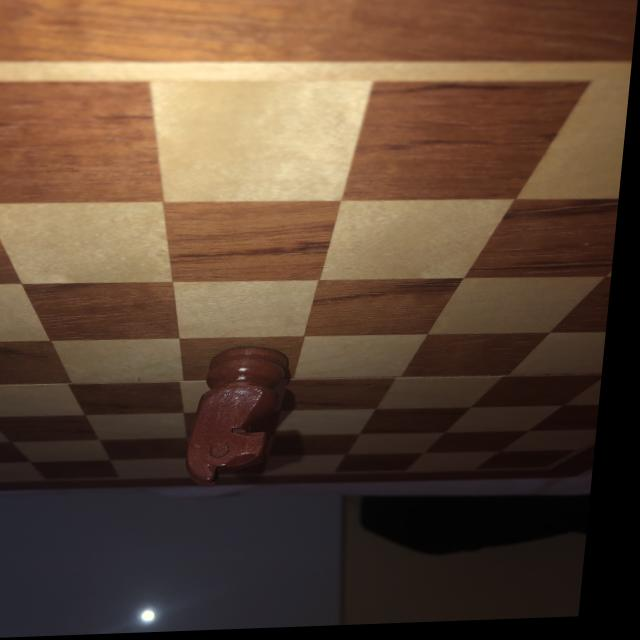black_knight: (189, 346, 303, 493)
